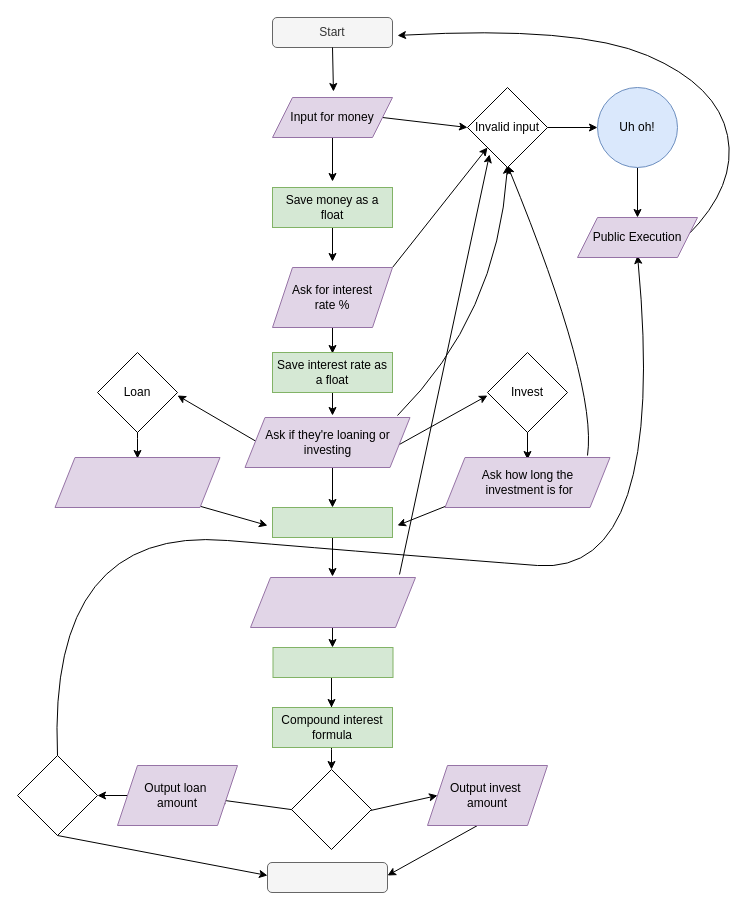
Some shapes in this 747 by 910 pixel diagram are drawn without their labels. Each missing label, with the centre of its shape:
"Ask how long the loan term is" belongs at pixel 137 482.
"End" belongs at pixel 327 877.
"How many times per year is the interest applied for?" belongs at pixel 333 602.
"Loan or Invest" belongs at pixel 331 809.
"Save as an int" belongs at pixel 332 662.
"Save time as a float" belongs at pixel 332 522.
"Too much debt?" belongs at pixel 57 795.
